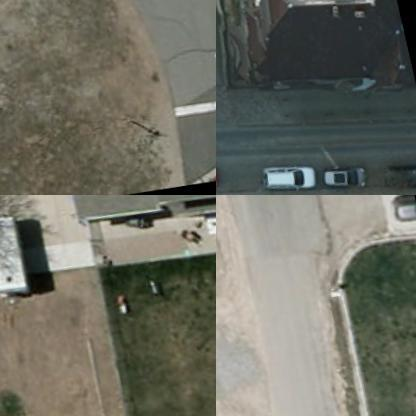camping car: (0, 213, 26, 293)
car: (316, 157, 367, 190), (261, 154, 312, 186), (378, 151, 415, 194), (386, 195, 415, 224)
